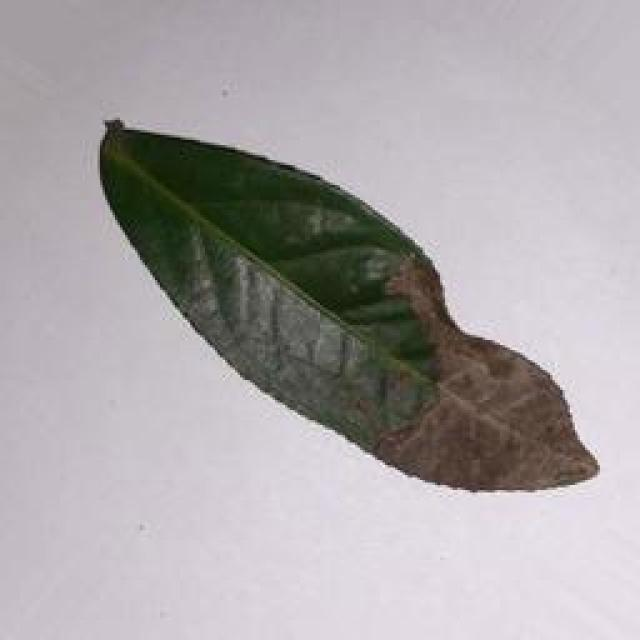Brown Blight: (95, 112, 610, 508)
